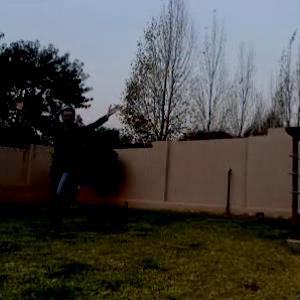takeoff: (11, 94, 124, 225)
